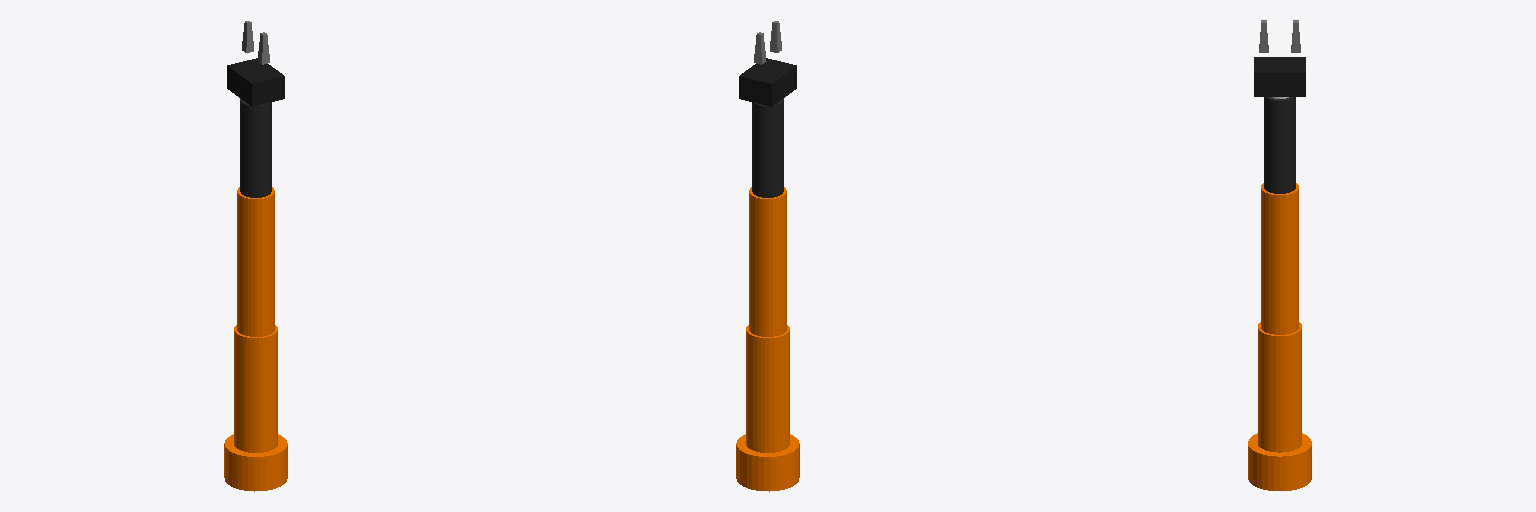
The robot description file, URDF, robot "kuka_3dof_arm":
<?xml version="1.0"?>
<robot name="kuka_3dof_arm">

  <!-- Arm base -->
  <link name="arm_base_link">
    <inertial>
      <mass value="0.5"/>
      <origin xyz="0 0 0" rpy="0 0 0"/>
      <inertia ixx="0.002" ixy="0" ixz="0" iyy="0.002" iyz="0" izz="0.002"/>
    </inertial>
    <visual>
      <origin xyz="0 0 0" rpy="0 0 0"/>
      <geometry><cylinder radius="0.05" length="0.06"/></geometry>
      <material name="kuka_orange"><color rgba="1.0 0.5 0.0 1"/></material>
    </visual>
    <collision>
      <origin xyz="0 0 0" rpy="0 0 0"/>
      <geometry><cylinder radius="0.05" length="0.06"/></geometry>
    </collision>
  </link>

  <!-- Link 1 — shoulder -->
  <link name="link1">
    <inertial>
      <mass value="1.2"/>
      <origin xyz="0 0 0.1" rpy="0 0 0"/>
      <inertia ixx="0.01" ixy="0" ixz="0" iyy="0.01" iyz="0" izz="0.003"/>
    </inertial>
    <visual>
      <origin xyz="0 0 0.1" rpy="0 0 0"/>
      <geometry><cylinder radius="0.035" length="0.20"/></geometry>
      <material name="kuka_orange"><color rgba="1.0 0.5 0.0 1"/></material>
    </visual>
    <collision>
      <origin xyz="0 0 0.1" rpy="0 0 0"/>
      <geometry><cylinder radius="0.035" length="0.20"/></geometry>
    </collision>
  </link>
  <joint name="joint1" type="revolute">
    <parent link="arm_base_link"/>
    <child  link="link1"/>
    <origin xyz="0 0 0.03" rpy="0 0 0"/>
    <axis xyz="0 0 1"/>
    <limit lower="-3.14159" upper="3.14159" effort="80" velocity="2.0"/>
    <dynamics damping="0.5" friction="0.1"/>
  </joint>

  <!-- Link 2 — elbow -->
  <link name="link2">
    <inertial>
      <mass value="0.9"/>
      <origin xyz="0 0 0.12" rpy="0 0 0"/>
      <inertia ixx="0.008" ixy="0" ixz="0" iyy="0.008" iyz="0" izz="0.002"/>
    </inertial>
    <visual>
      <origin xyz="0 0 0.12" rpy="0 0 0"/>
      <geometry><cylinder radius="0.030" length="0.24"/></geometry>
      <material name="kuka_orange"><color rgba="1.0 0.5 0.0 1"/></material>
    </visual>
    <collision>
      <origin xyz="0 0 0.12" rpy="0 0 0"/>
      <geometry><cylinder radius="0.030" length="0.24"/></geometry>
    </collision>
  </link>
  <joint name="joint2" type="revolute">
    <parent link="link1"/>
    <child  link="link2"/>
    <origin xyz="0 0 0.20" rpy="0 0 0"/>
    <axis xyz="0 1 0"/>
    <limit lower="-1.5708" upper="1.5708" effort="60" velocity="2.0"/>
    <dynamics damping="0.5" friction="0.1"/>
  </joint>

  <!-- Link 3 — wrist -->
  <link name="link3">
    <inertial>
      <mass value="0.5"/>
      <origin xyz="0 0 0.08" rpy="0 0 0"/>
      <inertia ixx="0.003" ixy="0" ixz="0" iyy="0.003" iyz="0" izz="0.001"/>
    </inertial>
    <visual>
      <origin xyz="0 0 0.08" rpy="0 0 0"/>
      <geometry><cylinder radius="0.025" length="0.16"/></geometry>
      <material name="kuka_dark"><color rgba="0.2 0.2 0.2 1"/></material>
    </visual>
    <collision>
      <origin xyz="0 0 0.08" rpy="0 0 0"/>
      <geometry><cylinder radius="0.025" length="0.16"/></geometry>
    </collision>
  </link>
  <joint name="joint3" type="revolute">
    <parent link="link2"/>
    <child  link="link3"/>
    <origin xyz="0 0 0.24" rpy="0 0 0"/>
    <axis xyz="0 1 0"/>
    <limit lower="-1.5708" upper="1.5708" effort="40" velocity="2.5"/>
    <dynamics damping="0.3" friction="0.05"/>
  </joint>

  <!-- End-effector -->
  <link name="end_effector_link">
    <inertial>
      <mass value="0.1"/>
      <origin xyz="0 0 0" rpy="0 0 0"/>
      <inertia ixx="0.0001" ixy="0" ixz="0" iyy="0.0001" iyz="0" izz="0.0001"/>
    </inertial>
    <visual>
      <origin xyz="0 0 0" rpy="0 0 0"/>
      <geometry><sphere radius="0.018"/></geometry>
      <material name="silver"><color rgba="0.8 0.8 0.8 1"/></material>
    </visual>
  </link>
  <joint name="ee_joint" type="fixed">
    <parent link="link3"/>
    <child  link="end_effector_link"/>
    <origin xyz="0 0 0.16" rpy="0 0 0"/>
  </joint>

  <!-- Gripper base -->
  <link name="gripper_base">
    <inertial>
      <mass value="0.15"/>
      <origin xyz="0 0 0" rpy="0 0 0"/>
      <inertia ixx="0.0003" ixy="0" ixz="0" iyy="0.0003" iyz="0" izz="0.0003"/>
    </inertial>
    <visual>
      <origin xyz="0 0 0.02" rpy="0 0 0"/>
      <geometry><box size="0.06 0.08 0.04"/></geometry>
      <material name="kuka_dark"><color rgba="0.15 0.15 0.15 1"/></material>
    </visual>
    <collision>
      <origin xyz="0 0 0.02" rpy="0 0 0"/>
      <geometry><box size="0.06 0.08 0.04"/></geometry>
    </collision>
  </link>
  <joint name="gripper_base_joint" type="fixed">
    <parent link="end_effector_link"/>
    <child  link="gripper_base"/>
    <origin xyz="0 0 0.01" rpy="0 0 0"/>
  </joint>

  <!-- Left finger -->
  <link name="finger_left">
    <inertial>
      <mass value="0.05"/>
      <origin xyz="0 0 0.025" rpy="0 0 0"/>
      <inertia ixx="0.00005" ixy="0" ixz="0" iyy="0.00005" iyz="0" izz="0.00001"/>
    </inertial>
    <visual>
      <origin xyz="0 0 0.025" rpy="0 0 0"/>
      <geometry><mesh filename="../../assets/meshes/gripper_finger.obj" scale="1 1 1"/></geometry>
      <material name="gray"><color rgba="0.5 0.5 0.5 1"/></material>
    </visual>
    <collision>
      <origin xyz="0 0 0.025" rpy="0 0 0"/>
      <geometry><mesh filename="../../assets/meshes/gripper_finger.obj" scale="1 1 1"/></geometry>
    </collision>
  </link>
  <joint name="finger_left_joint" type="prismatic">
    <parent link="gripper_base"/>
    <child  link="finger_left"/>
    <origin xyz="0  0.025 0.04" rpy="0 0 0"/>
    <axis xyz="0 1 0"/>
    <limit lower="0.0" upper="0.04" effort="20" velocity="0.1"/>
    <dynamics damping="0.1" friction="0.01"/>
  </joint>

  <!-- Right finger -->
  <link name="finger_right">
    <inertial>
      <mass value="0.05"/>
      <origin xyz="0 0 0.025" rpy="0 0 0"/>
      <inertia ixx="0.00005" ixy="0" ixz="0" iyy="0.00005" iyz="0" izz="0.00001"/>
    </inertial>
    <visual>
      <origin xyz="0 0 0.025" rpy="0 0 0"/>
      <geometry><mesh filename="../../assets/meshes/gripper_finger.obj" scale="1 1 1"/></geometry>
      <material name="gray"><color rgba="0.5 0.5 0.5 1"/></material>
    </visual>
    <collision>
      <origin xyz="0 0 0.025" rpy="0 0 0"/>
      <geometry><mesh filename="../../assets/meshes/gripper_finger.obj" scale="1 1 1"/></geometry>
    </collision>
  </link>
  <joint name="finger_right_joint" type="prismatic">
    <parent link="gripper_base"/>
    <child  link="finger_right"/>
    <origin xyz="0 -0.025 0.04" rpy="0 0 0"/>
    <axis xyz="0 -1 0"/>
    <limit lower="0.0" upper="0.04" effort="20" velocity="0.1"/>
    <dynamics damping="0.1" friction="0.01"/>
  </joint>

</robot>

--- Render facts (derived) ---
3 views of the same robot in one strip: view 1: azimuth 30°, elevation 25°; view 2: azimuth 150°, elevation 25°; view 3: azimuth 270°, elevation 25° (orthographic).
Robot: kuka_3dof_arm — 8 links, 7 joints (3 revolute, 2 prismatic, 2 fixed); root link arm_base_link; default pose: every joint at zero.
Visible links, largest first — view 1: link2, link1, link3, arm_base_link, gripper_base; view 2: link2, link1, link3, arm_base_link, gripper_base; view 3: link2, link1, link3, arm_base_link, gripper_base.
Boxes of the visible links, left/top/right/bottom form: link2: left=237, top=187, right=274, bottom=336; link1: left=234, top=325, right=277, bottom=452; link3: left=240, top=98, right=271, bottom=197; arm_base_link: left=224, top=434, right=287, bottom=491; gripper_base: left=227, top=58, right=284, bottom=106; link2: left=749, top=187, right=786, bottom=336; link1: left=746, top=325, right=789, bottom=452; link3: left=752, top=98, right=783, bottom=197; arm_base_link: left=736, top=434, right=799, bottom=491; gripper_base: left=739, top=58, right=796, bottom=106; link2: left=1261, top=183, right=1298, bottom=334; link1: left=1258, top=322, right=1301, bottom=452; link3: left=1264, top=97, right=1295, bottom=193; arm_base_link: left=1248, top=433, right=1311, bottom=490; gripper_base: left=1254, top=57, right=1305, bottom=96.
Size in the robot's own frame: 0.1 by 0.1 by 0.785 metres.
Meshes: 1 distinct files referenced, 2 mesh visuals loaded (1 OBJ).
